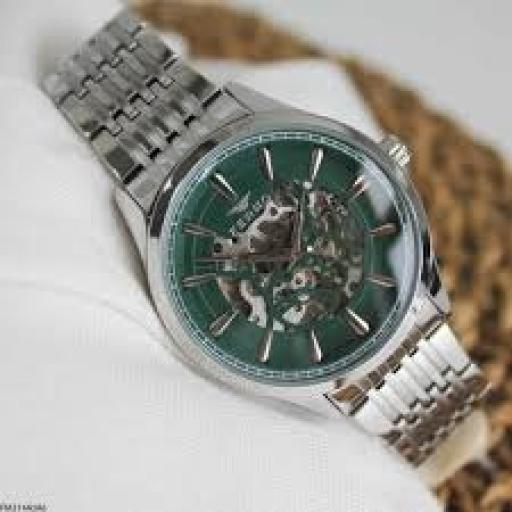KolSaati: (31, 6, 503, 467)
